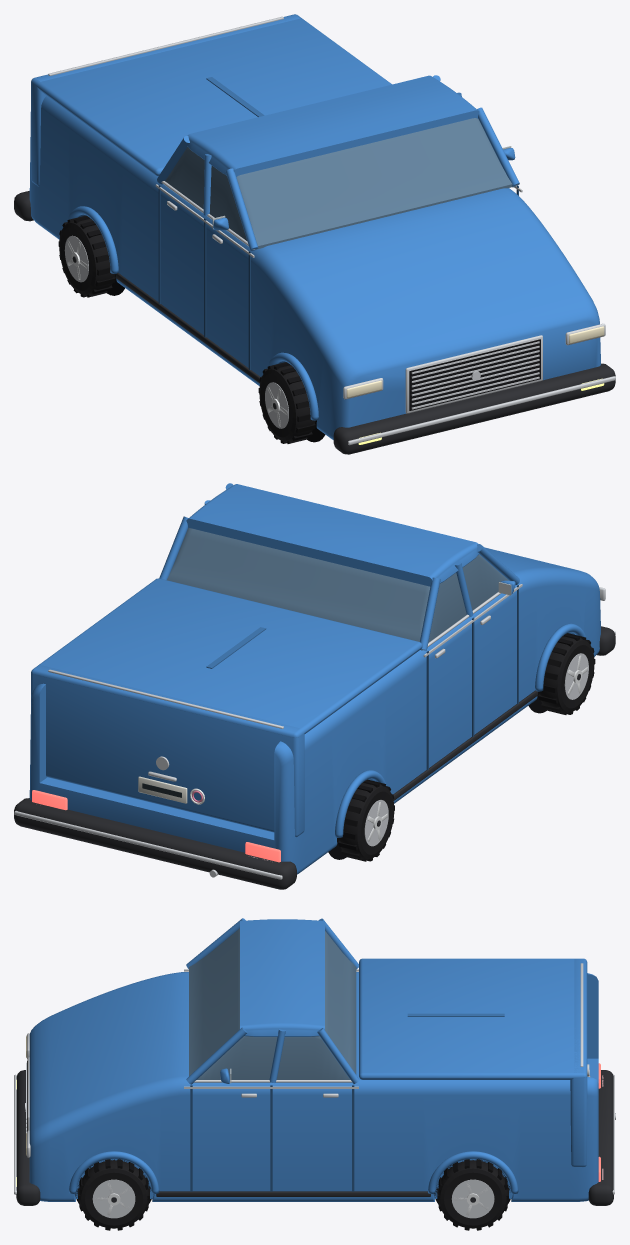
File: nursery.fbx
3 views of the same model, one above another, from view 1: azimuth 30°, elevation 25°; view 2: azimuth 150°, elevation 25°; view 3: azimuth 270°, elevation 25° (orthographic). The views are drawn at different scales.
Visible parts, largest first — view 1: Body, Lid, Wheel_3, Wheel_1, LidFlap; view 2: Body, Lid, LidFlap, Wheel_3, Wheel_1; view 3: Body, Lid, Wheel_2, Wheel_0, LidFlap.
Part boxes in pixels (box(x1,y1,x2,y2)): Body: box(14, 75, 615, 454); Lid: box(31, 14, 391, 176); Wheel_3: box(258, 362, 315, 443); Wheel_1: box(58, 215, 115, 297); LidFlap: box(31, 15, 299, 186); Body: box(14, 483, 615, 889); Lid: box(31, 578, 422, 737); LidFlap: box(31, 665, 304, 837); Wheel_3: box(538, 633, 595, 714); Wheel_1: box(338, 779, 394, 861); Body: box(14, 918, 615, 1205); Lid: box(359, 958, 587, 1079); Wheel_2: box(78, 1159, 149, 1230); Wheel_0: box(437, 1159, 508, 1230); LidFlap: box(570, 959, 590, 1167).
Size of the model in its own units: 6.5 by 4.51 by 12.39.
